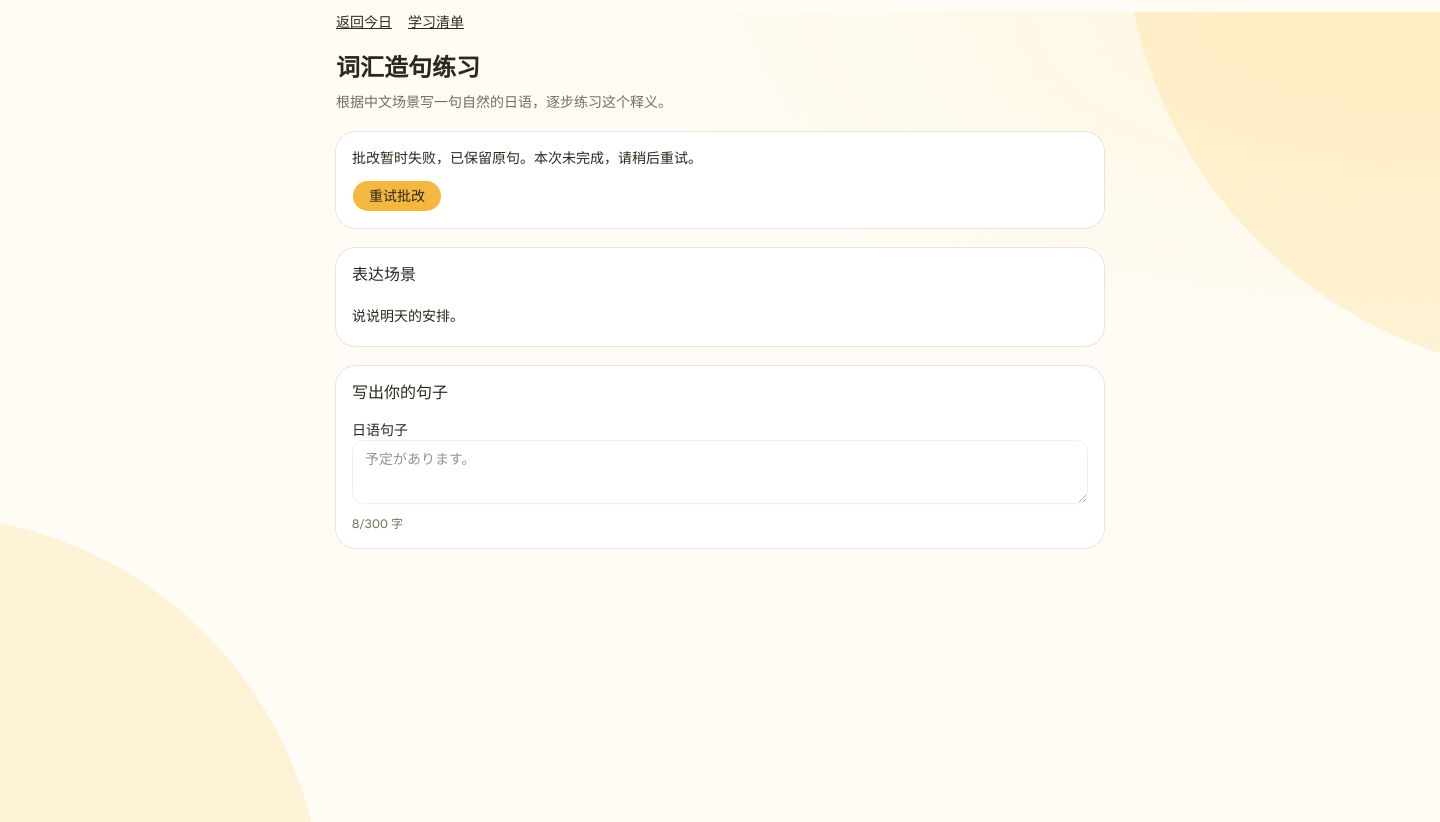
vocabulary evidence boundaries › locks duplicate retry clicks and resumes the persisted assessment
Click the button "重试批改" at coordinates (397, 196), box [352, 180, 442, 212]
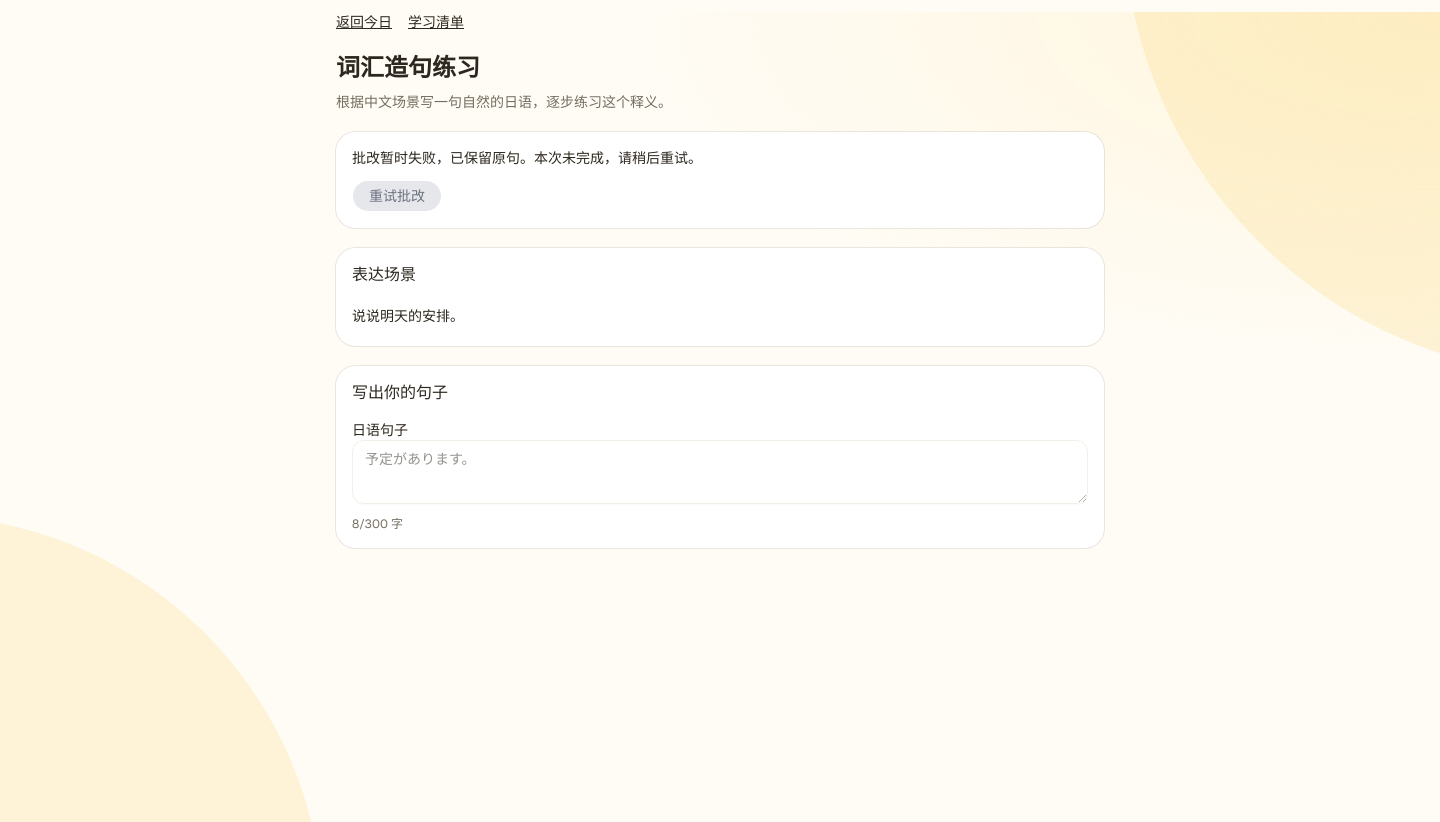
Click the button "重试批改" at coordinates (397, 196), box [352, 180, 442, 212]
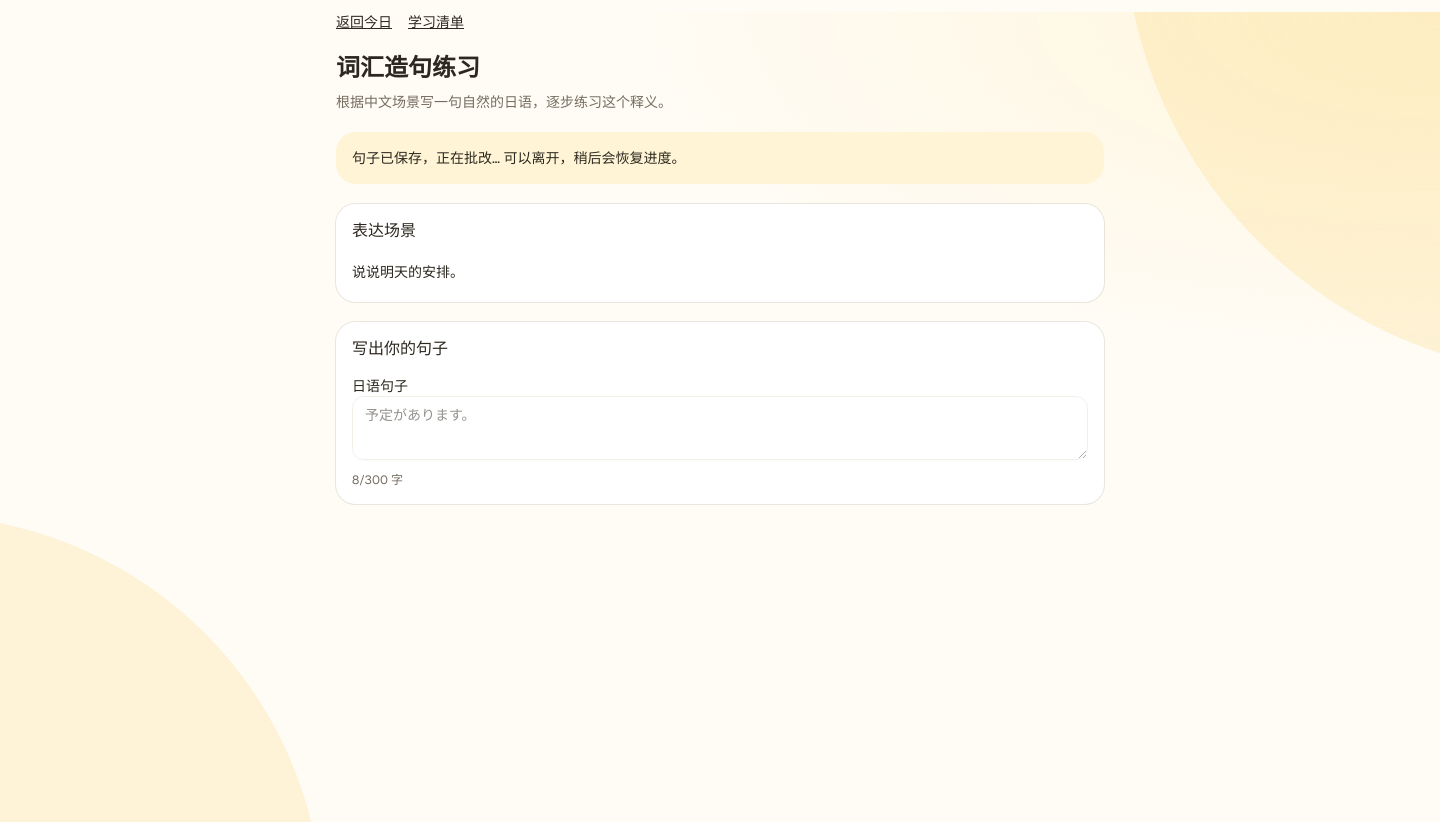
Now the text "句子已保存，正在批改… 可以离开，稍后会恢复进度。" is shown, box [336, 132, 1104, 184]
